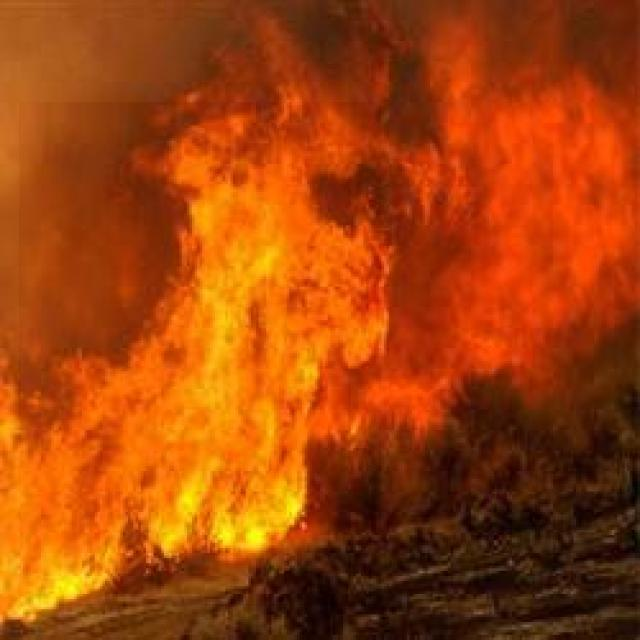Fire: (19, 102, 381, 606)
